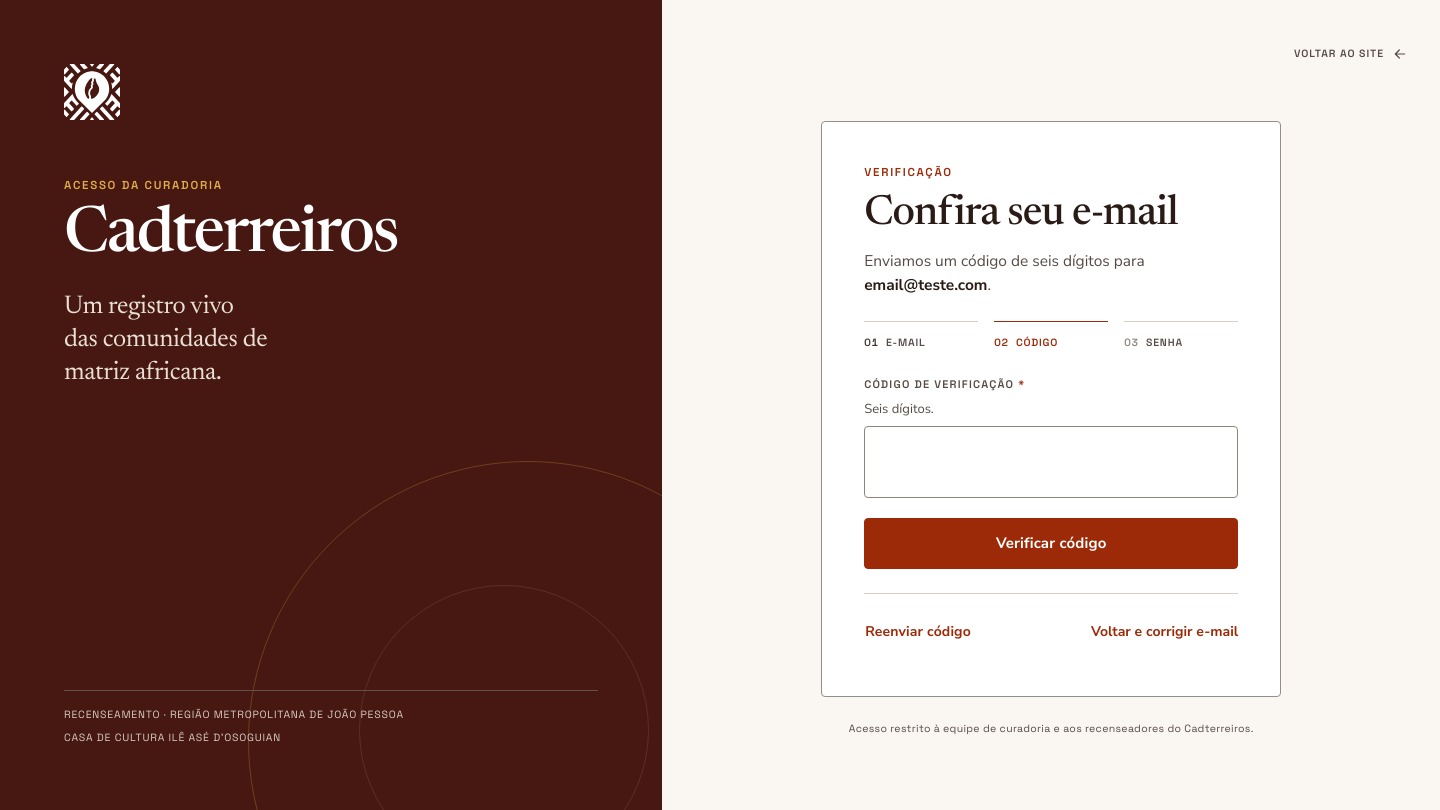
Test: OTP › usa a mesma mensagem genérica para código recusado
The width and height of the screenshot is (1440, 810).
Type "000000" into the field labelled "Código de verificação *" at (1051, 462), box x1=864 y1=426 x2=1238 y2=498
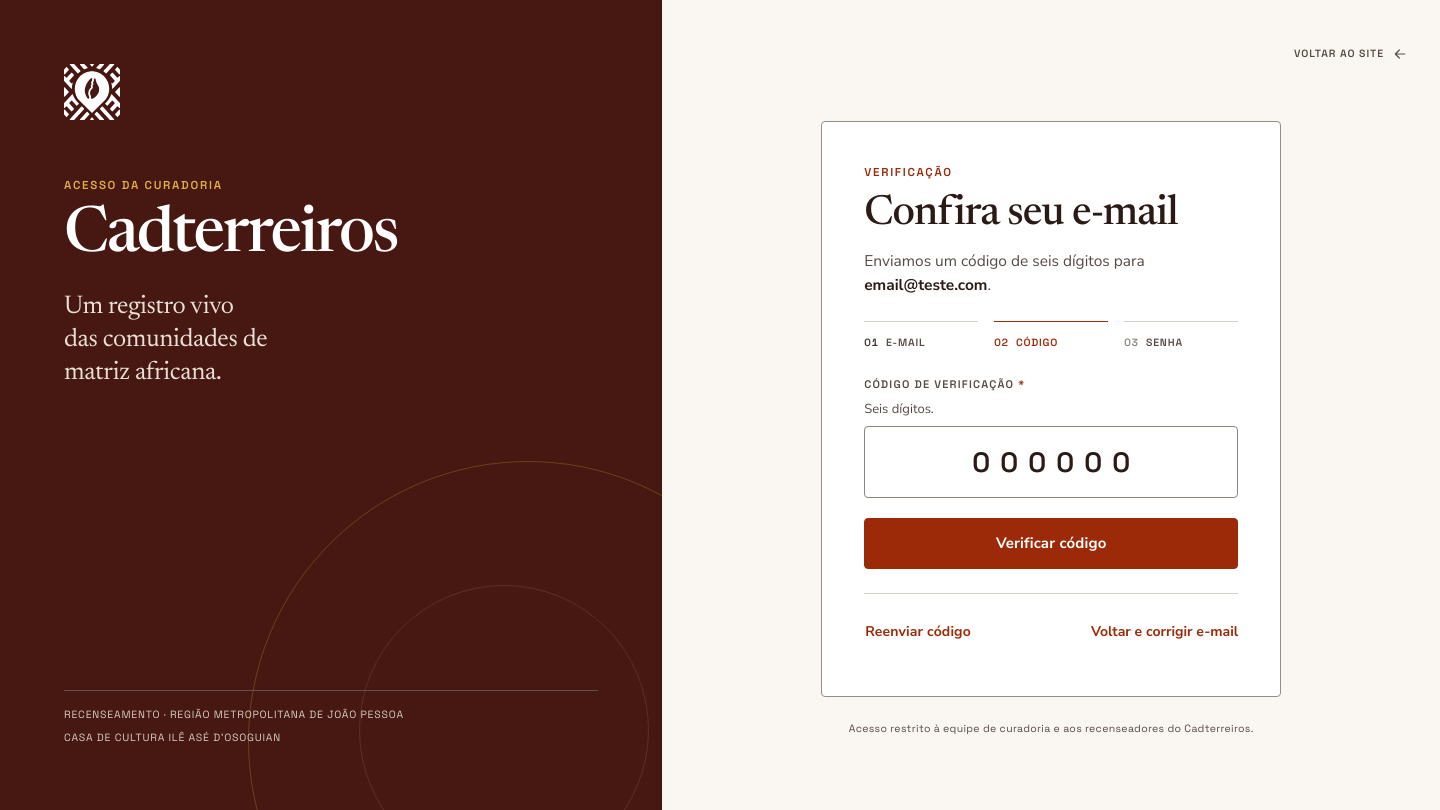
Click the button "Verificar código" at (1051, 544), box x1=864 y1=518 x2=1238 y2=569
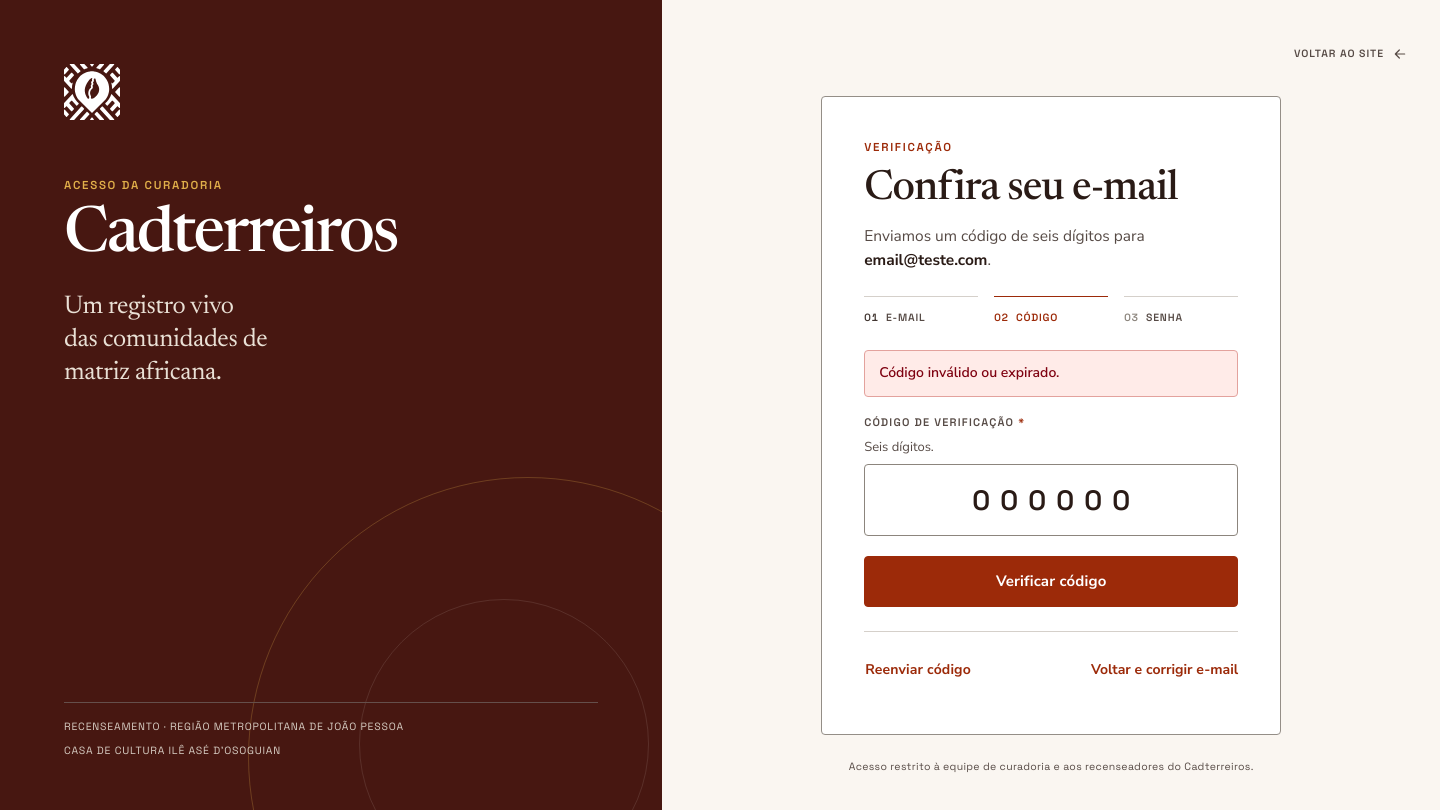
Expected: the message reads "Código inválido ou expirado.", x1=879 y1=363 x2=1059 y2=382
